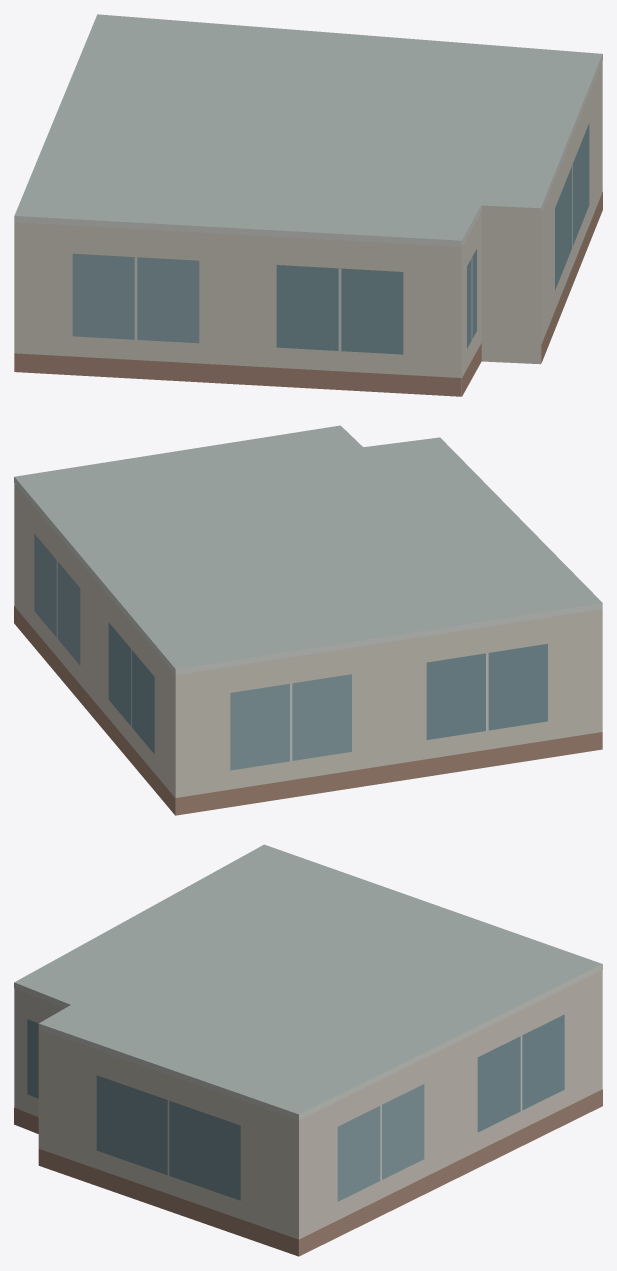
Rendered from survey-upis-32909713.glb.
The picture shows the model from 3 angles, top to bottom: view 1: azimuth 30°, elevation 25°; view 2: azimuth 150°, elevation 25°; view 3: azimuth 270°, elevation 25°; orthographic projection. The views are drawn at different scales.
Visible parts, largest first — view 1: survey-upis-32909713.tmp; view 2: survey-upis-32909713.tmp; view 3: survey-upis-32909713.tmp.
Part boxes in pixels (x1,y1,x2,y2): survey-upis-32909713.tmp: [14, 14, 602, 396]; survey-upis-32909713.tmp: [14, 425, 602, 815]; survey-upis-32909713.tmp: [14, 844, 602, 1256].
Bounding box in the file's own units: 12.44 × 3.05 × 11.46.
